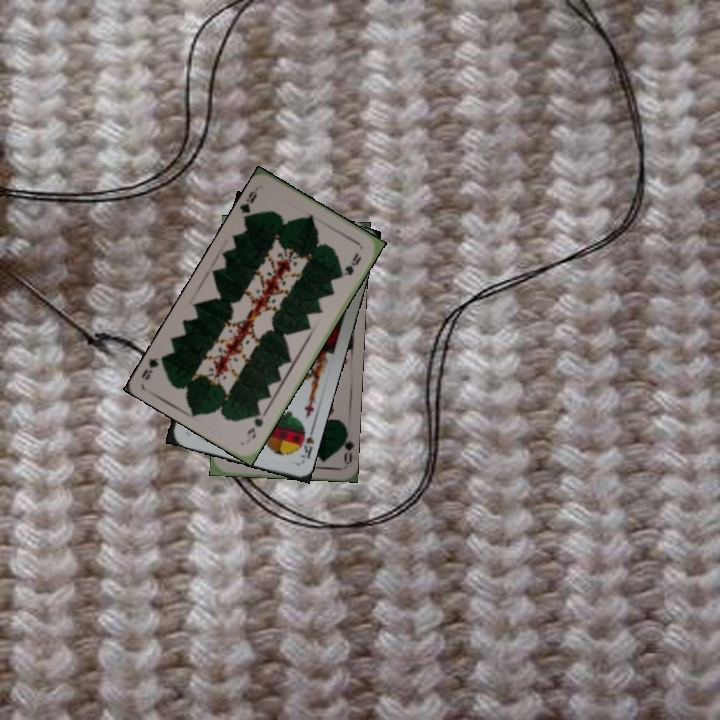G9: (237, 183, 261, 223), (243, 407, 269, 441)
GO: (335, 425, 355, 465)
SK: (292, 422, 317, 461)
